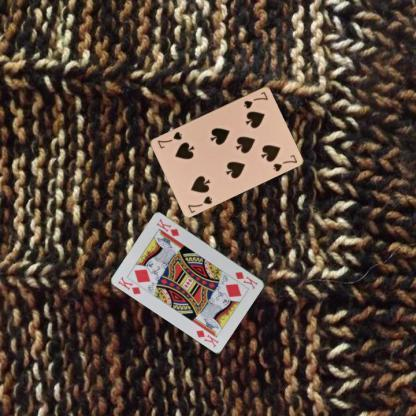7s: (185, 192, 214, 214), (240, 89, 270, 110)
Kd: (232, 268, 260, 290), (116, 274, 142, 296)
